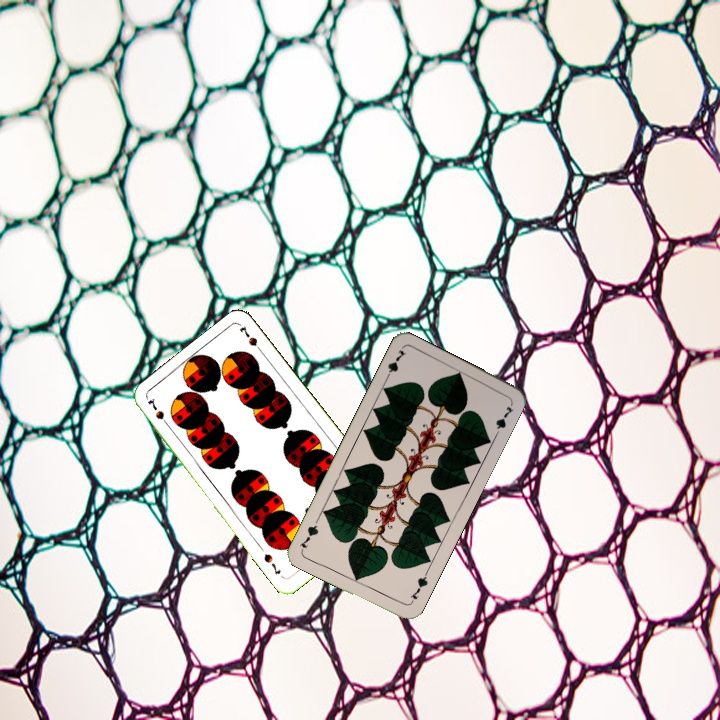G7: (381, 346, 409, 383), (406, 568, 430, 606)
S7: (144, 394, 172, 430)
